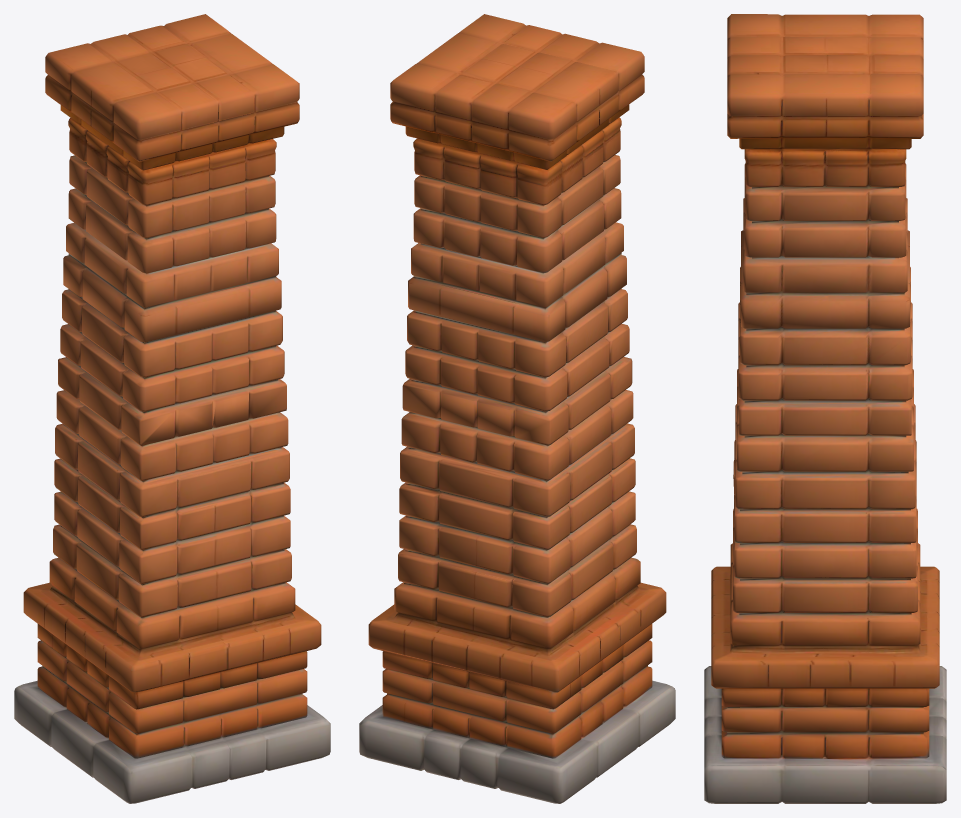
The model's file is Outside__a_brick_chimney_47c9b7a0_v1.cluster.glb.
3 views of the same model, side by side, from view 1: azimuth 30°, elevation 25°; view 2: azimuth 150°, elevation 25°; view 3: azimuth 270°, elevation 25° (orthographic). The views are drawn at different scales.
Visible parts, largest first — view 1: material; view 2: material; view 3: material.
Part boxes in pixels (<box>): material: <box>14,14,330,803</box>; material: <box>359,14,675,803</box>; material: <box>704,14,946,803</box>.
Size of the model in its own units: 0.5995 by 1.9 by 0.5955.
1 material, 1 textured.
